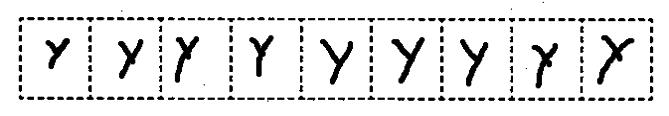Y: (594, 34, 638, 86), (316, 32, 357, 87), (386, 34, 427, 88), (454, 36, 495, 87), (242, 33, 285, 81), (172, 30, 203, 87), (530, 36, 560, 90), (115, 31, 145, 83), (43, 32, 74, 76)
